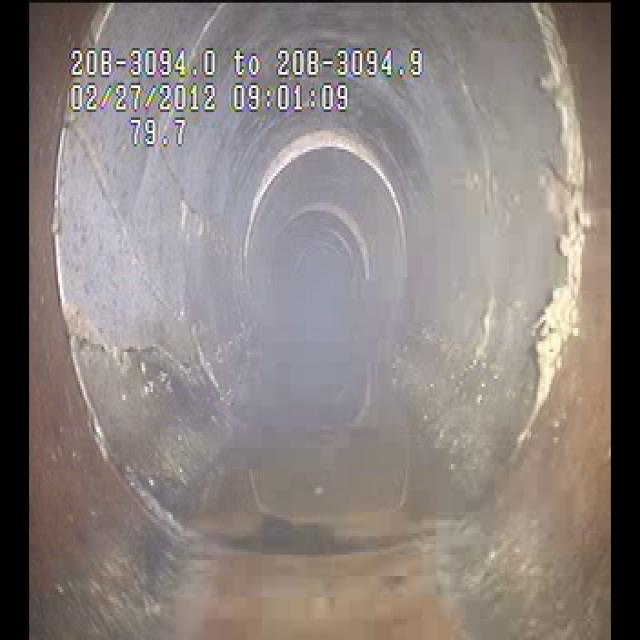Fracture: (52, 134, 226, 396)
